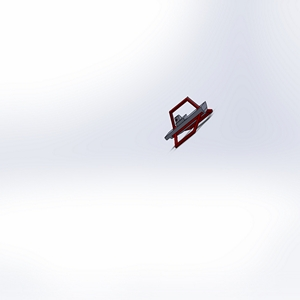submarine: (159, 90, 218, 164)
